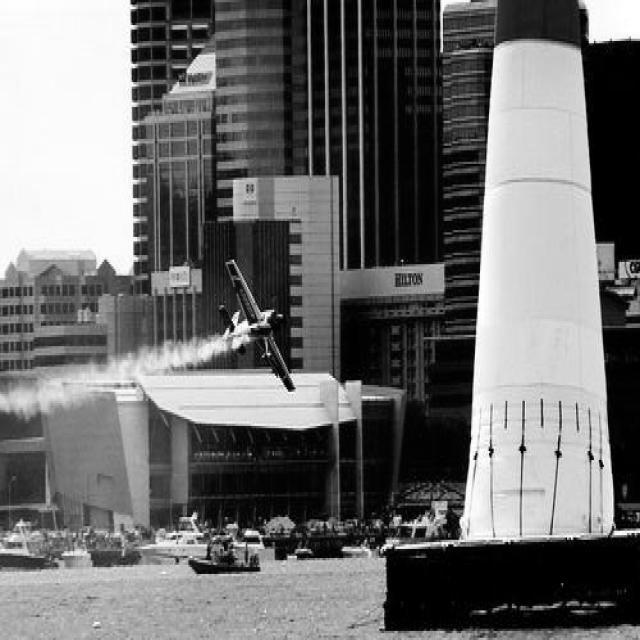aeroplane: (218, 255, 294, 392)
